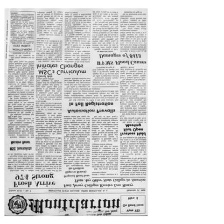news_paper: (2, 7, 148, 216)
